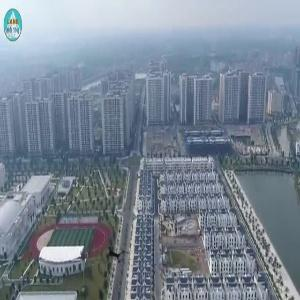drone: (98, 235, 137, 274)
